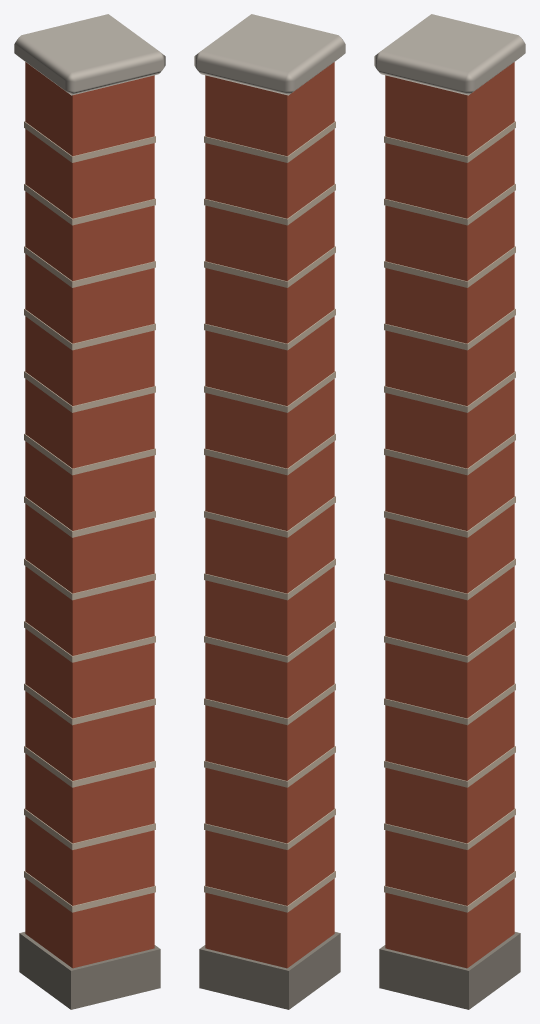
File: pfosten_voll.glb
The picture shows the model from 3 angles, left to right: view 1: azimuth 30°, elevation 25°; view 2: azimuth 150°, elevation 25°; view 3: azimuth 330°, elevation 25°; orthographic projection.
Parts seen in each view (by area): view 1: pfosten_voll; view 2: pfosten_voll; view 3: pfosten_voll.
Boxes of the visible parts, x1,y1,x2,y2 form: pfosten_voll: (14,14,165,1009); pfosten_voll: (194,14,345,1009); pfosten_voll: (374,14,525,1009).
Size of the model in its own units: 0.27 by 2.4 by 0.27.
